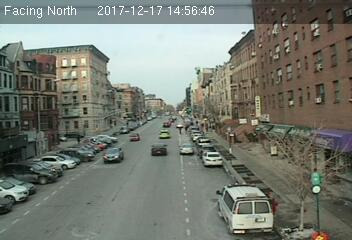car: (201, 150, 224, 167), (103, 147, 123, 164), (150, 142, 168, 157), (178, 143, 196, 156), (157, 129, 171, 139)
police: (213, 181, 275, 233)
